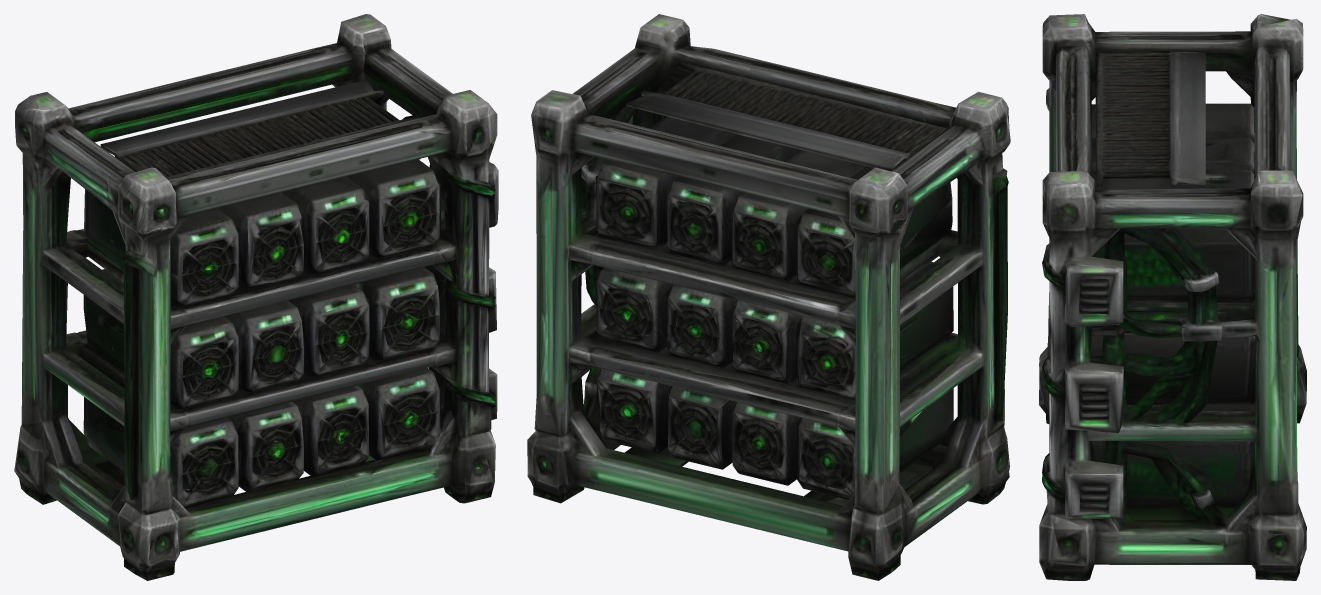
The model's file is mining-rig.glb.
3 renders of one model, left to right at view 1: azimuth 30°, elevation 25°; view 2: azimuth 150°, elevation 25°; view 3: azimuth 270°, elevation 25°, orthographic.
Parts seen in each view (by area): view 1: material; view 2: material; view 3: material.
Boxes of the visible parts, box(x1,y1,x2,y2) form: material: box(14, 14, 498, 580); material: box(527, 14, 1010, 580); material: box(1039, 14, 1306, 580).
Size of the model in its own units: 0.8048 by 0.8069 by 0.4923.
Materials: 1 (1 with a texture image).
